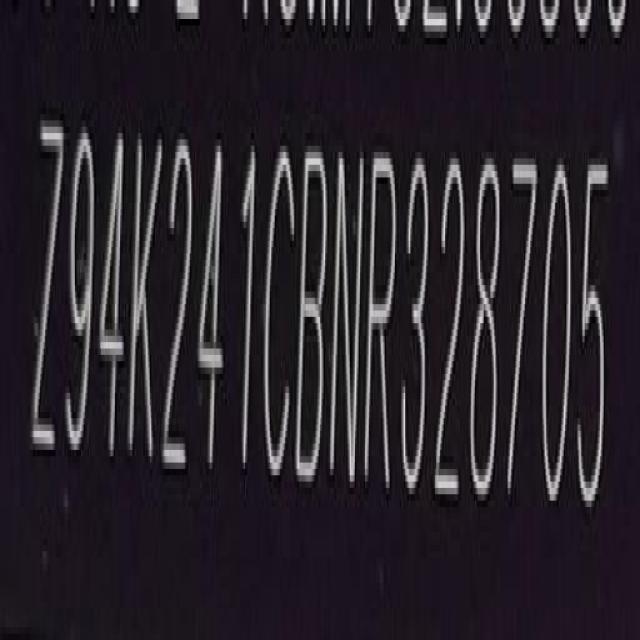0: (542, 156, 574, 510)
1: (234, 142, 256, 487)
2: (164, 132, 195, 482), (436, 154, 466, 503)
3: (401, 153, 433, 502)
4: (98, 126, 127, 470), (201, 137, 228, 484)
5: (580, 150, 612, 514)
7: (508, 147, 540, 505)
8: (470, 156, 500, 506)
9: (65, 120, 95, 469)
B: (299, 145, 330, 490)
C: (262, 144, 296, 484)
K: (131, 129, 163, 478)
N: (331, 144, 364, 493)
R: (366, 147, 398, 491)
Z: (31, 119, 66, 470)
